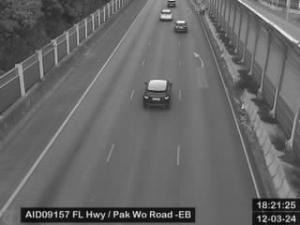vehicle: (143, 78, 173, 108), (159, 8, 173, 22), (174, 20, 189, 32), (166, 1, 178, 8)
